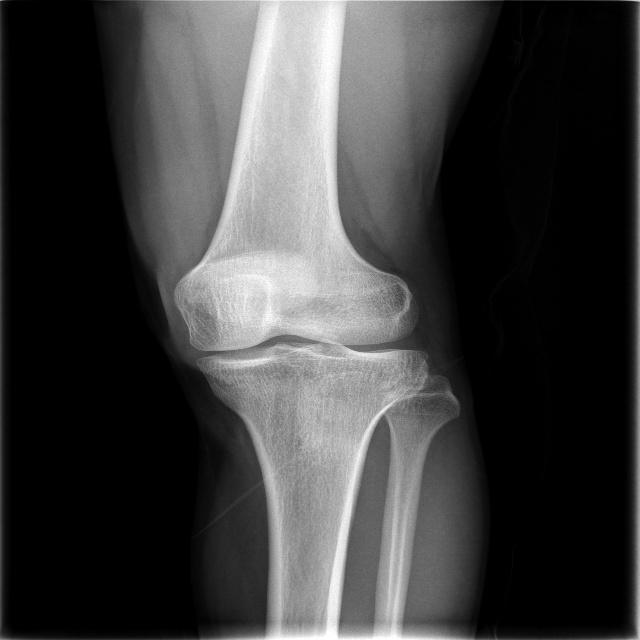Knee: (169, 259, 429, 413)
